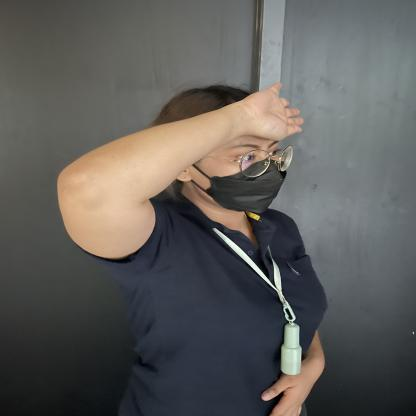Sick: (200, 52, 334, 145)
